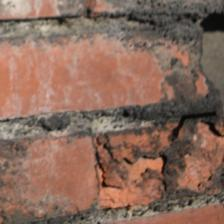Crack: (48, 54, 173, 161)
